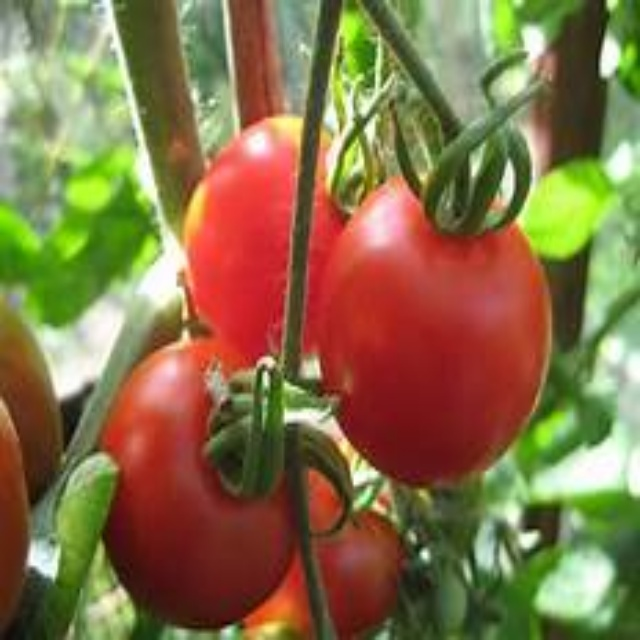tomato: (321, 170, 559, 483), (86, 334, 299, 612), (183, 116, 356, 373)
